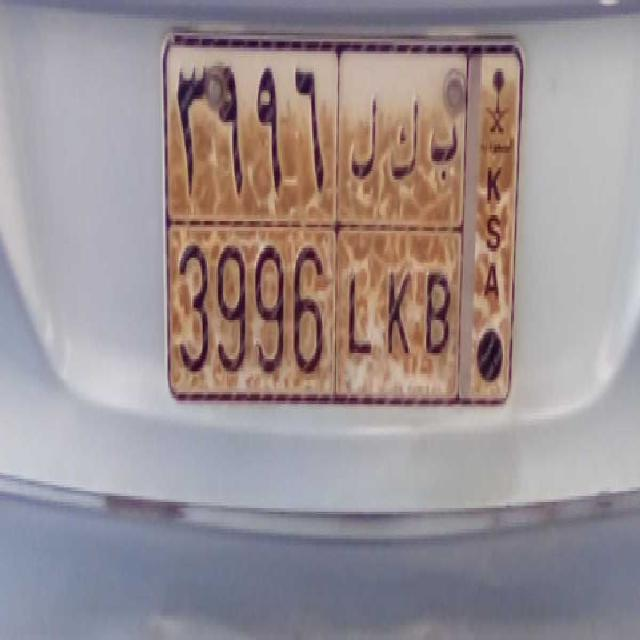license_plate: (167, 216, 460, 401)
